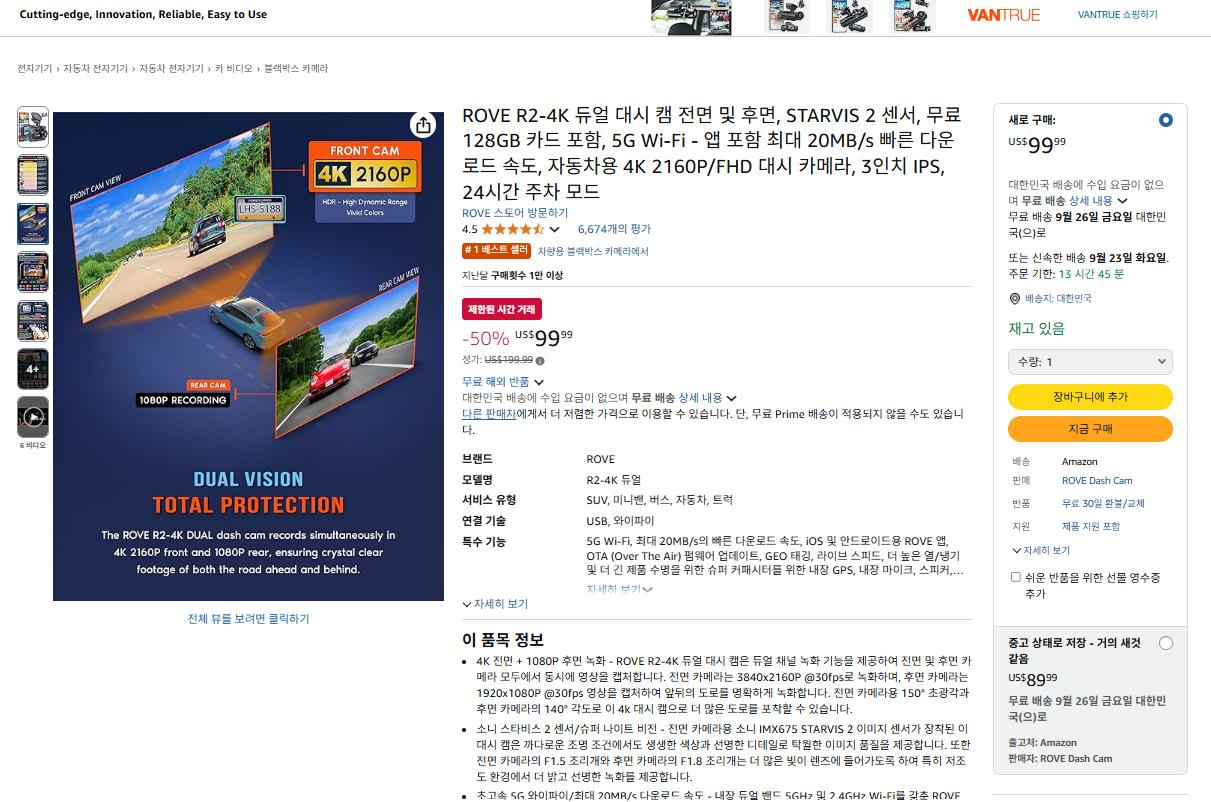button: (1006, 382, 1172, 412), (1009, 416, 1174, 444)
checkbox: (0, 0, 1211, 38), (990, 627, 1185, 671), (187, 609, 313, 630)
popup: (1006, 568, 1164, 604)
